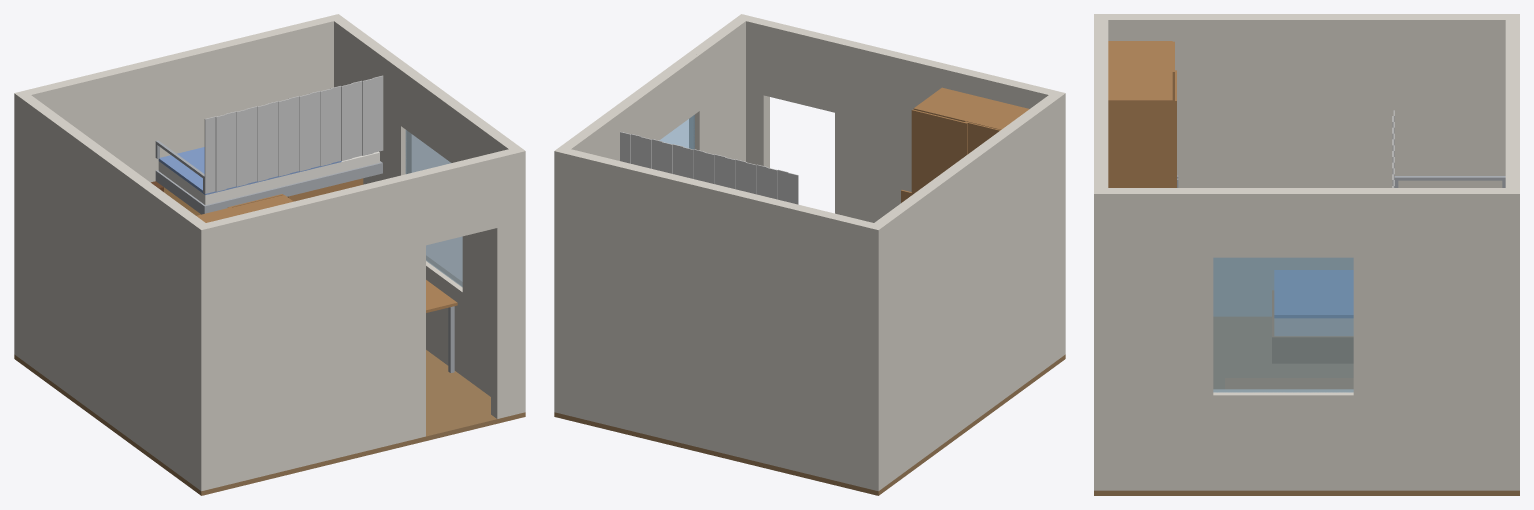
File: twins-offset-loft.glb
3 views of the same model, side by side, from view 1: azimuth 30°, elevation 25°; view 2: azimuth 150°, elevation 25°; view 3: azimuth 270°, elevation 25° (orthographic). The views are drawn at different scales.
Parts seen in each view (by area): view 1: wall_0, wall_4, wall_3, curtain_a, wall_2, floor, wall_5, wall_8, wall_1, wall_7, wall_6, bed_upper_0 (+5 smaller); view 2: wall_3, wall_4, wall_0, wall_5, wall_1, curtain_a, wall_7, wardrobe_b_4, wall_2, floor, wardrobe_b_1, wall_8 (+2 smaller); view 3: wall_4, wall_8, wall_5, glass_0, wall_6, wall_7, wardrobe_b_1, floor, wall_3, wall_2, bed_lower_2, bed_lower_0 (+5 smaller).
Boxes of the visible parts, left/top/right/bottom form: wall_0: left=195, top=171, right=425, bottom=491; wall_4: left=20, top=95, right=205, bottom=486; wall_3: left=14, top=14, right=344, bottom=358; curtain_a: left=204, top=75, right=383, bottom=193; wall_2: left=491, top=146, right=525, bottom=418; floor: left=14, top=350, right=525, bottom=495; wall_5: left=462, top=112, right=519, bottom=396; wall_8: left=334, top=18, right=411, bottom=184; wall_1: left=420, top=153, right=497, bottom=245; wall_7: left=401, top=67, right=472, bottom=162; wall_6: left=426, top=255, right=462, bottom=375; bed_upper_0: left=155, top=161, right=382, bottom=214; wall_3: left=554, top=146, right=884, bottom=491; wall_4: left=874, top=95, right=1059, bottom=486; wall_0: left=835, top=38, right=1065, bottom=358; wall_5: left=689, top=18, right=745, bottom=161; wall_1: left=763, top=21, right=840, bottom=112; curtain_a: left=620, top=131, right=798, bottom=204; wall_7: left=627, top=52, right=699, bottom=140; wardrobe_b_4: left=911, top=109, right=967, bottom=194; wall_2: left=735, top=14, right=769, bottom=167; floor: left=554, top=354, right=1065, bottom=495; wardrobe_b_1: left=913, top=87, right=1029, bottom=129; wall_8: left=560, top=97, right=637, bottom=160; wall_4: left=1108, top=14, right=1505, bottom=316; wall_8: left=1353, top=188, right=1505, bottom=490; wall_5: left=1108, top=188, right=1213, bottom=490; glass_0: left=1213, top=257, right=1353, bottom=392; wall_6: left=1213, top=389, right=1353, bottom=490; wall_7: left=1213, top=188, right=1353, bottom=257; wardrobe_b_1: left=1108, top=41, right=1172, bottom=187; floor: left=1094, top=317, right=1519, bottom=495; wall_3: left=1505, top=14, right=1519, bottom=490; wall_2: left=1094, top=178, right=1108, bottom=490; bed_lower_2: left=1274, top=270, right=1353, bottom=317; bed_lower_0: left=1272, top=290, right=1353, bottom=363.
Size of the model in its own units: 3.64 by 2.85 by 3.64.
